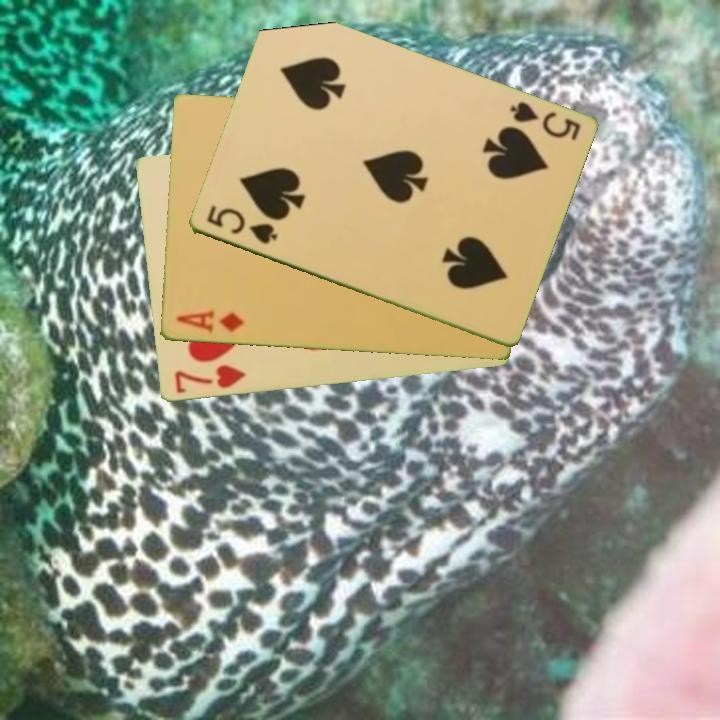5s: (202, 202, 280, 248), (505, 98, 583, 144)
7h: (170, 362, 249, 397)
Ad: (172, 307, 246, 337)
